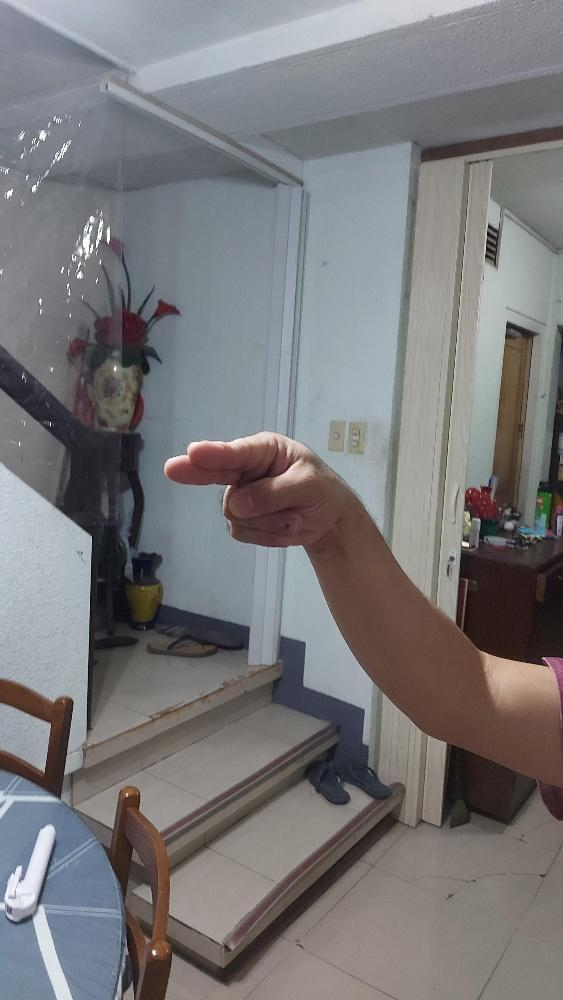n: (163, 429, 345, 547)
